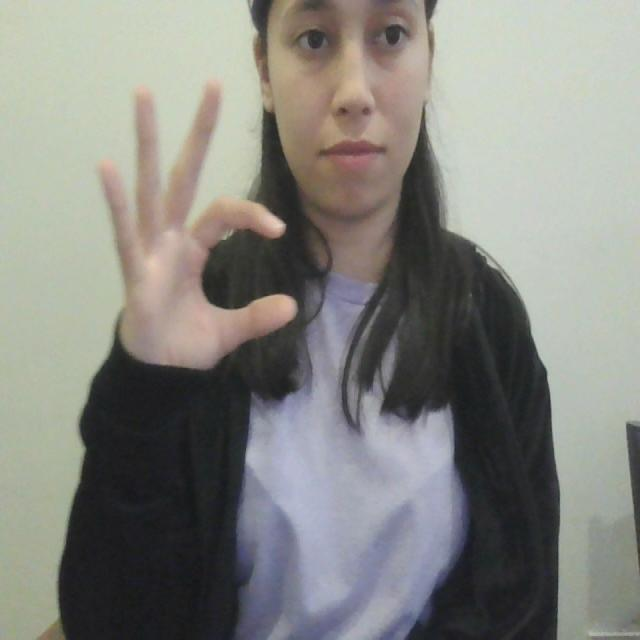Tuvalet: (82, 68, 301, 396)
